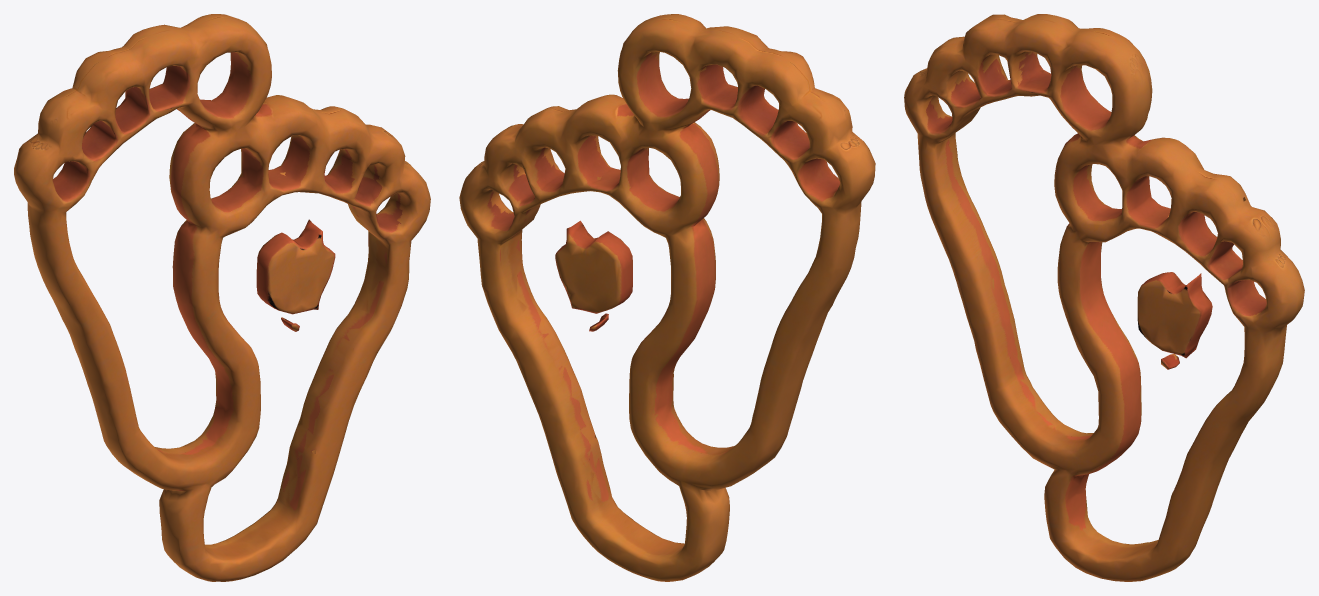
The model's file is Footprints_Heart_Icon_0516061819_texture.glb.
3 renders of one model, left to right at view 1: azimuth 30°, elevation 25°; view 2: azimuth 150°, elevation 25°; view 3: azimuth 330°, elevation 25°, orthographic. The views are drawn at different scales.
Size of the model in its own units: 1.53 by 2 by 0.1735.
1 material, 1 textured.
